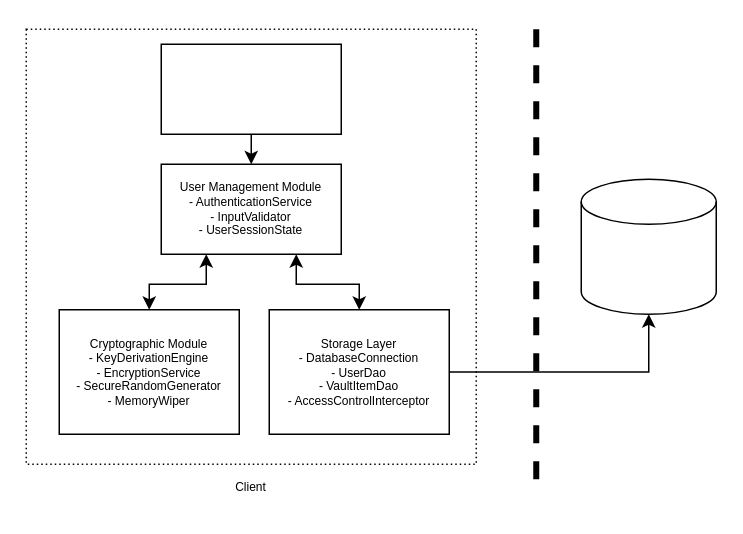
This 743x534 diagram has some shape labels left out. The centre of each missing label's shape, as x and y in pixels:
Presentation Layer - CommandLineInterface - ConsoleInputReader - ClipboardHelper: pixel 250 88
SQLite Database (vault.db): pixel 648 246
